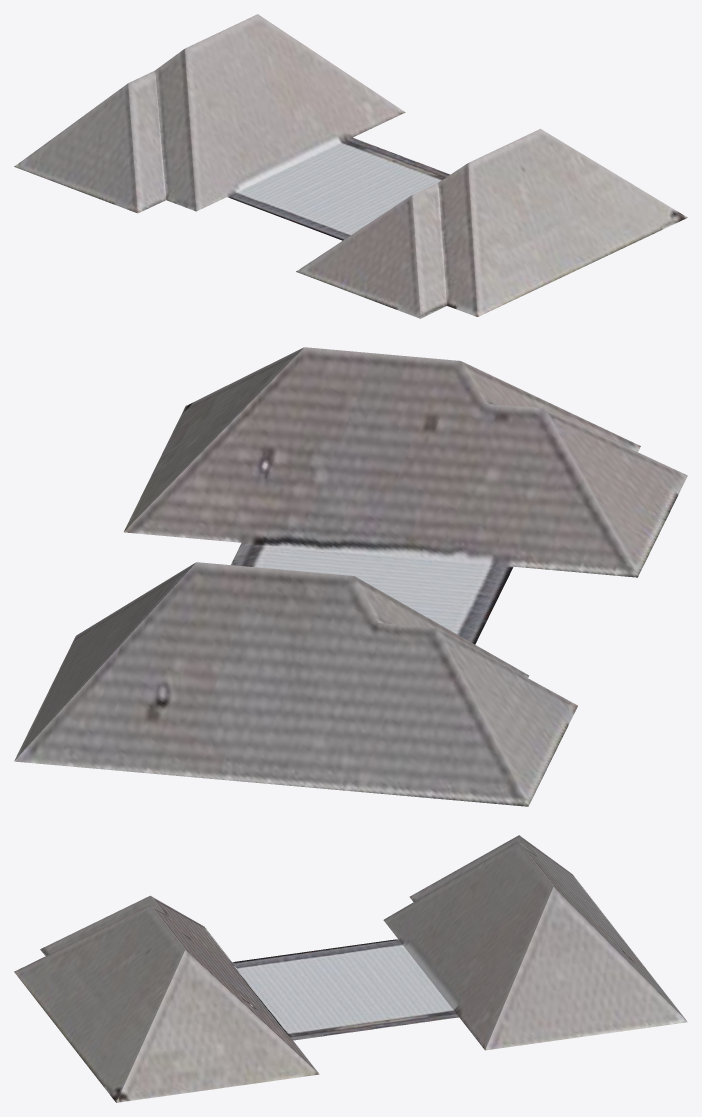
The model's file is BJ39_500_100047_0006_roof.obj.
The picture shows the model from 3 angles, top to bottom: view 1: azimuth 30°, elevation 25°; view 2: azimuth 150°, elevation 25°; view 3: azimuth 270°, elevation 25°; orthographic projection. The views are drawn at different scales.
Visible parts, largest first — view 1: BJ39_500_100047_0006_roof; view 2: BJ39_500_100047_0006_roof; view 3: BJ39_500_100047_0006_roof.
Part boxes in pixels (x1,y1,x2,y2): BJ39_500_100047_0006_roof: [14, 14, 687, 318]; BJ39_500_100047_0006_roof: [14, 347, 687, 806]; BJ39_500_100047_0006_roof: [14, 835, 687, 1102].
Size of the model in its own units: 360 by 77.52 by 448.
1 material, 1 textured.
